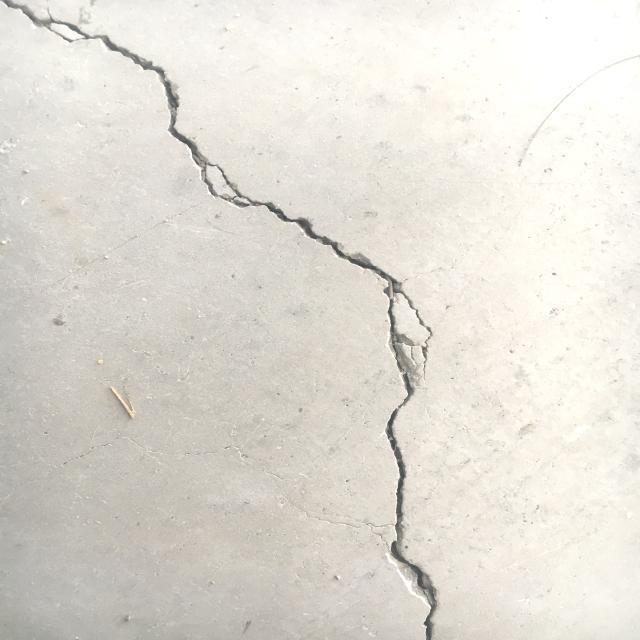SurfaceCrack: (3, 0, 484, 640), (508, 1, 639, 176)
